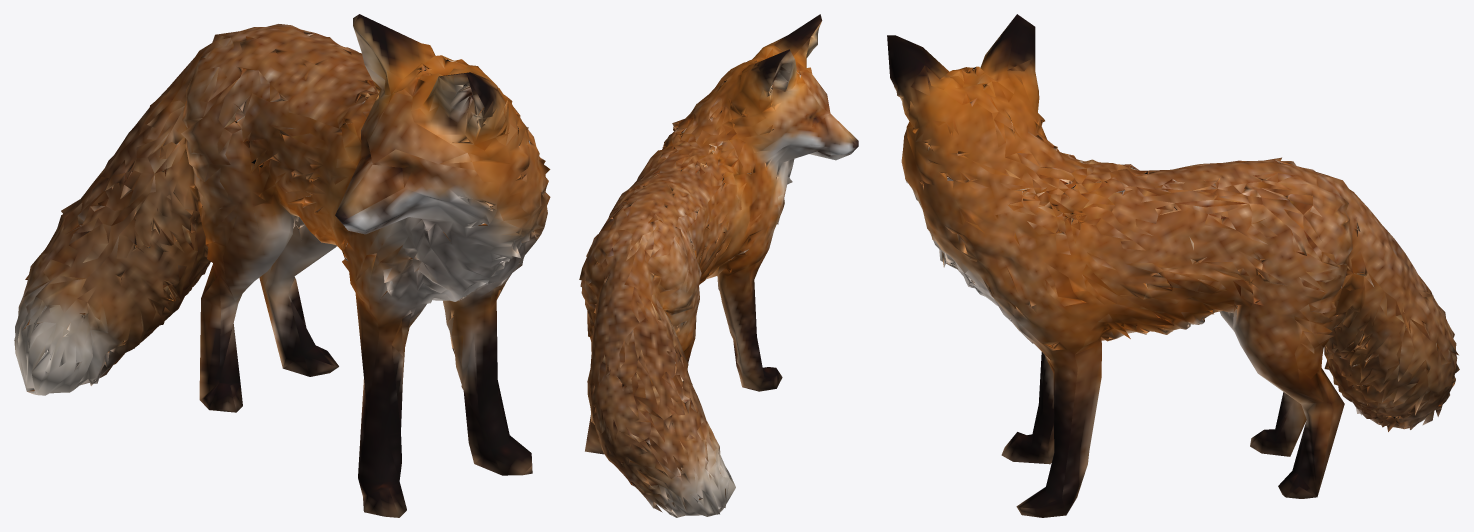
The model's file is Fox_clean.glb.
3 views of the same model, side by side, from view 1: azimuth 30°, elevation 25°; view 2: azimuth 150°, elevation 25°; view 3: azimuth 270°, elevation 25° (orthographic). The views are drawn at different scales.
Parts seen in each view (by area): view 1: Fox; view 2: Fox; view 3: Fox.
Part boxes in pixels (x1,y1,x2,y2): Fox: (14,14,550,517); Fox: (579,14,858,517); Fox: (887,14,1459,517).
Bounding box in the file's own units: 1 × 1.58 × 1.89.
Materials: 1 (1 with a texture image).
